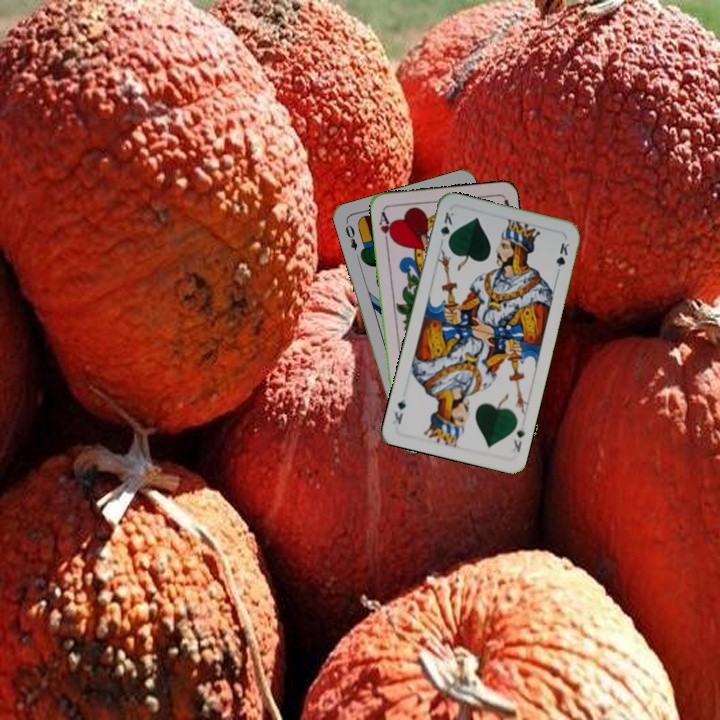EO: (341, 221, 360, 253)
GK: (436, 208, 457, 247), (510, 423, 527, 455)
HA: (374, 207, 396, 247)
